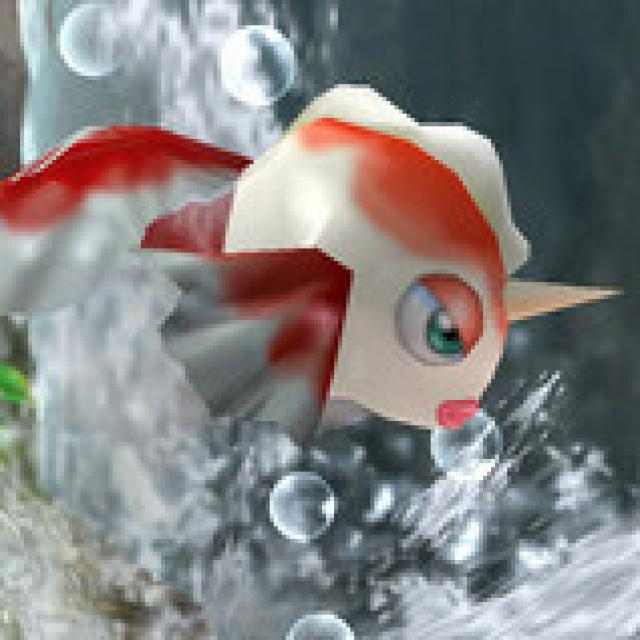Goldeen: (19, 76, 538, 439)
